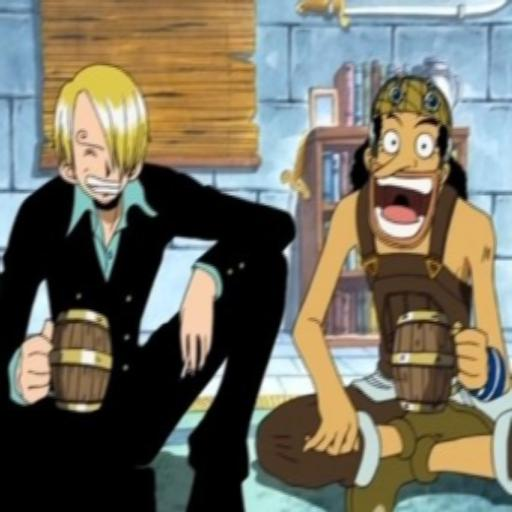Usopp: (346, 69, 460, 257)
sanji: (49, 51, 154, 212)
